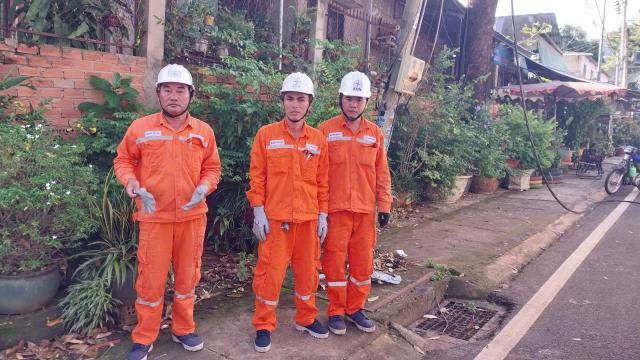gloves: (245, 200, 272, 241), (134, 186, 158, 218), (182, 187, 212, 209), (315, 207, 330, 245), (373, 209, 388, 228)
helmet: (153, 56, 203, 89), (276, 66, 318, 100), (337, 66, 377, 99)
shoes: (344, 302, 378, 336), (291, 315, 332, 341), (241, 326, 273, 357), (166, 327, 207, 350), (124, 332, 157, 360), (328, 312, 349, 338)
